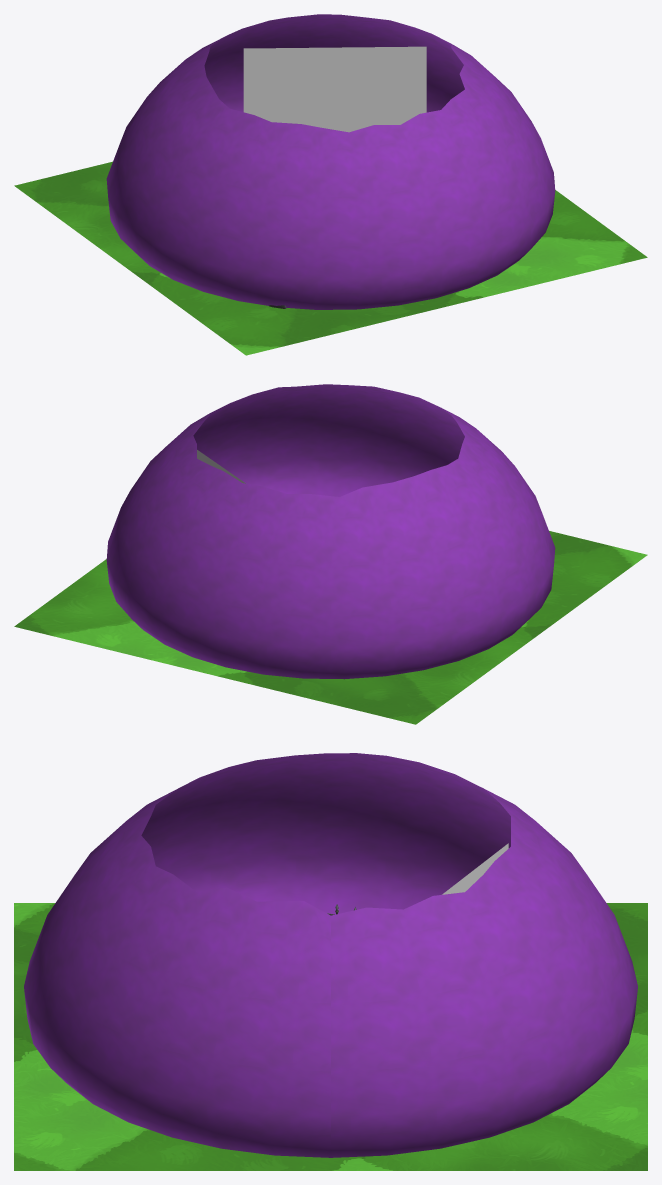
File: MainMenu_Enviroment.fbx
The picture shows the model from 3 angles, top to bottom: view 1: azimuth 30°, elevation 25°; view 2: azimuth 150°, elevation 25°; view 3: azimuth 270°, elevation 25°; orthographic projection. The views are drawn at different scales.
Parts seen in each view (by area): view 1: Fog, GroundPlane, LogoPlane; view 2: Fog, GroundPlane; view 3: Fog, GroundPlane, LogoPlane.
Boxes of the visible parts, left/top/right/bottom form: Fog: left=106, top=14, right=555, bottom=309; GroundPlane: left=14, top=161, right=647, bottom=355; LogoPlane: left=243, top=46, right=426, bottom=132; Fog: left=106, top=384, right=555, bottom=679; GroundPlane: left=14, top=531, right=647, bottom=724; Fog: left=24, top=753, right=637, bottom=1157; GroundPlane: left=14, top=903, right=647, bottom=1170; LogoPlane: left=442, top=843, right=508, bottom=894.
Bounding box in the file's own units: 20.46 × 20.46 × 8.14.
